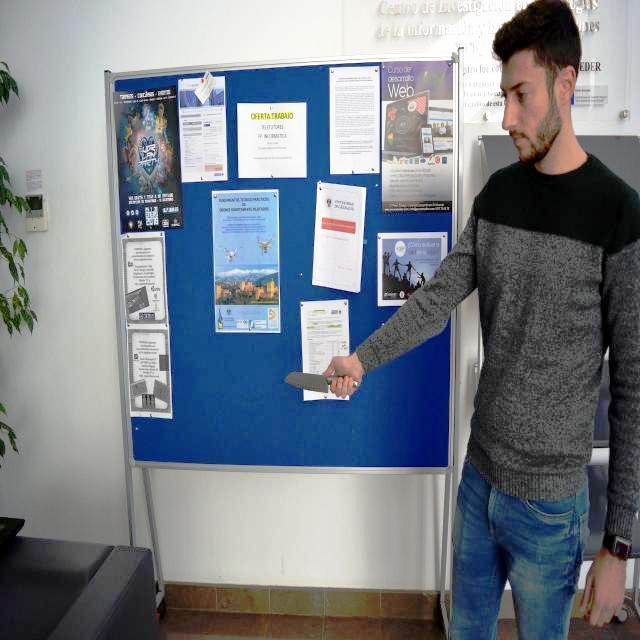Knife: (276, 357, 362, 401)
